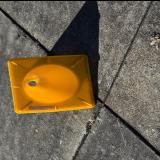cone: (8, 54, 96, 112)
